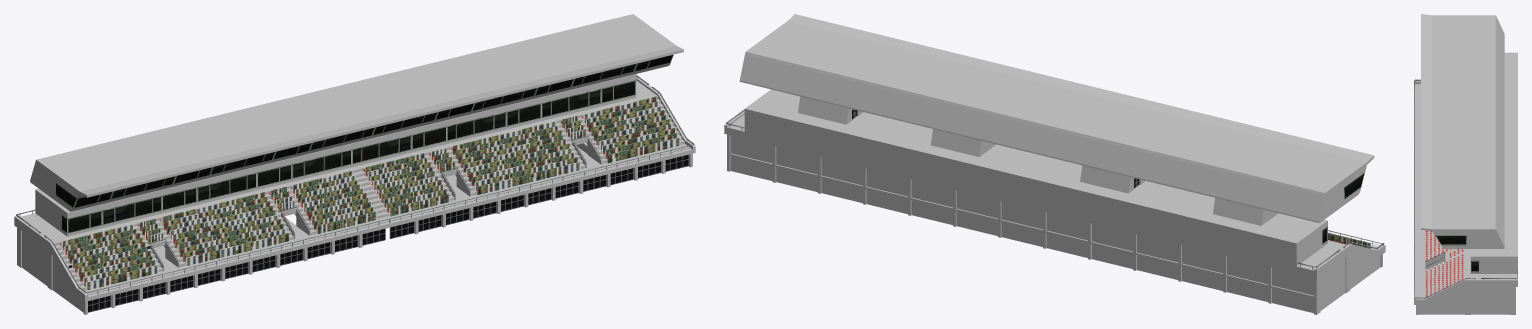
Rendered from GrandStand-03.fbx.
3 views of the same model, side by side, from view 1: azimuth 30°, elevation 25°; view 2: azimuth 150°, elevation 25°; view 3: azimuth 270°, elevation 25° (orthographic). The views are drawn at different scales.
Parts seen in each view (by area): view 1: GrandStand-03, Audience; view 2: GrandStand-03; view 3: GrandStand-03.
Part boxes in pixels (x1,y1,x2,y2): GrandStand-03: (14,14,695,314); Audience: (61,96,680,290); GrandStand-03: (724,14,1385,314); GrandStand-03: (1414,14,1517,314).
Size of the model in its own units: 13156 by 2384 by 2641.
